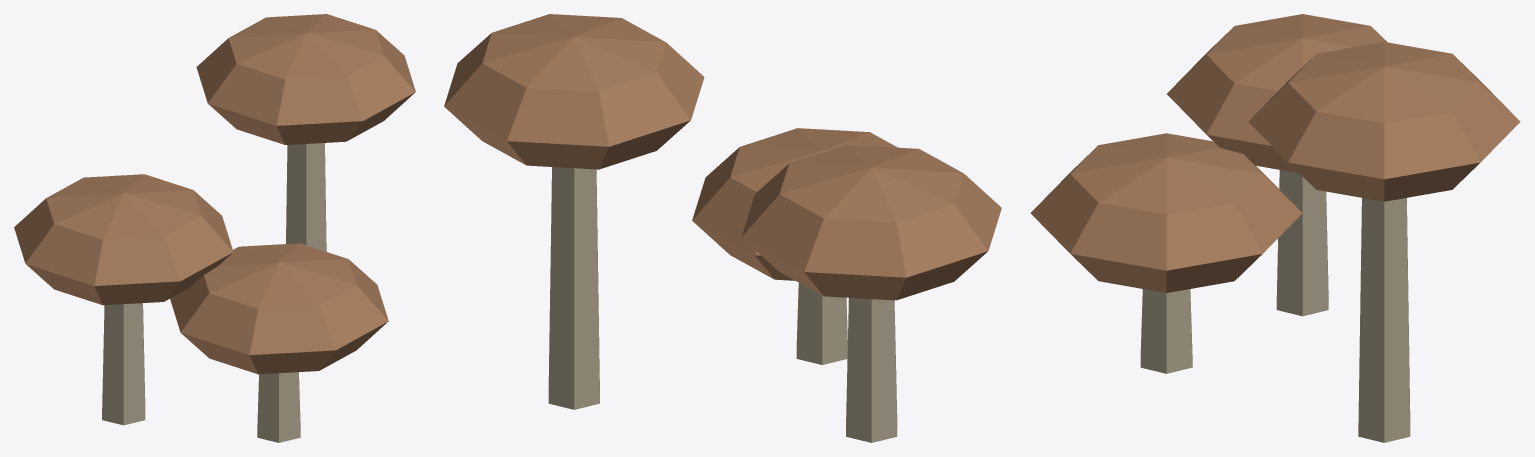
The model's file is mushrooms.glb.
The picture shows the model from 3 angles, left to right: view 1: azimuth 30°, elevation 25°; view 2: azimuth 150°, elevation 25°; view 3: azimuth 270°, elevation 25°; orthographic projection. The views are drawn at different scales.
Parts seen in each view (by area): view 1: mushrooms; view 2: mushrooms; view 3: mushrooms.
Part boxes in pixels (x1,y1,x2,y2): mushrooms: (14,14,415,442); mushrooms: (444,14,1001,442); mushrooms: (1030,14,1520,442).
Size of the model in its own units: 0.42 by 0.295 by 0.36.
